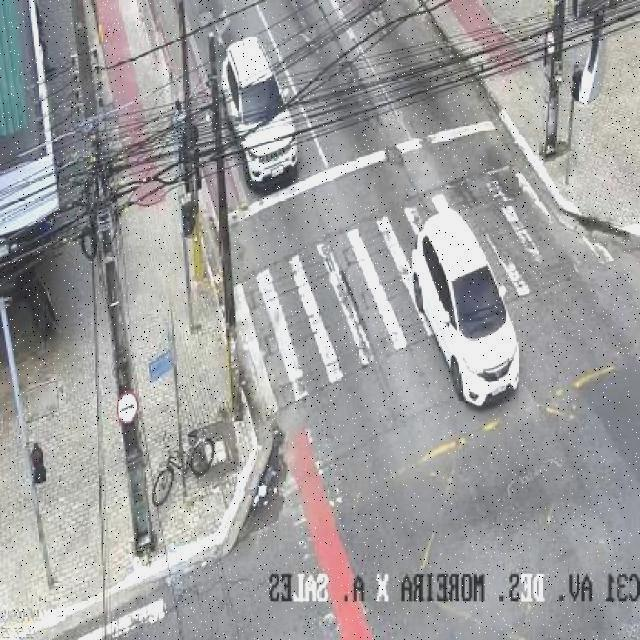Car: (410, 210, 522, 407), (220, 37, 300, 186)
Cycle: (151, 428, 215, 509)
